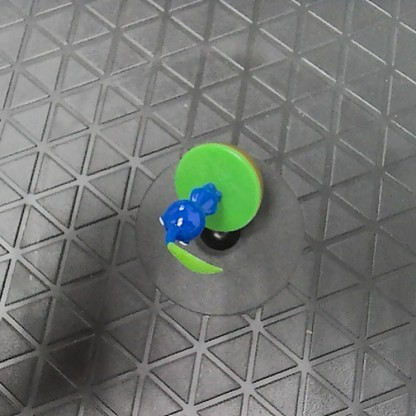leafairy: (159, 143, 263, 277)
